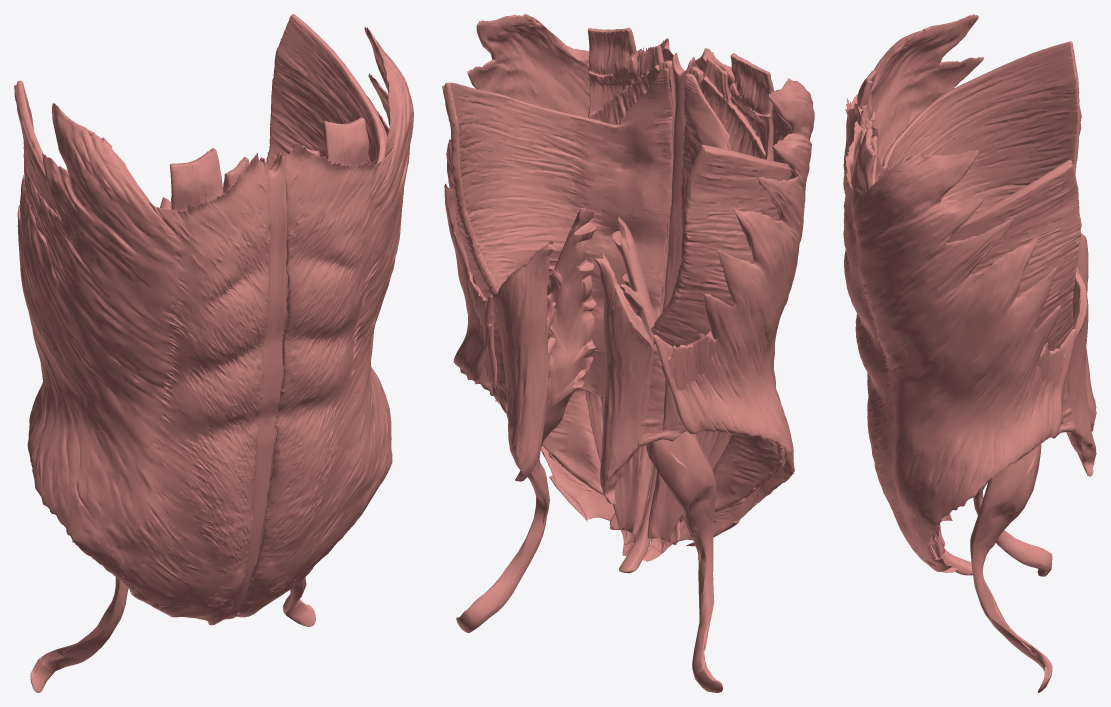
The model's file is muscles-abdomen.hi.glb.
The picture shows the model from 3 angles, left to right: view 1: azimuth 30°, elevation 25°; view 2: azimuth 150°, elevation 25°; view 3: azimuth 270°, elevation 25°; orthographic projection. The views are drawn at different scales.
Visible parts, largest first — view 1: FJ1452, FJ1452M, ZA-transverse-abdomen-g, FJ1448, ZA-droit-abdomen-d, FJ1431, ZA-transverse-abdomen-d, ZA-droit-abdomen-g, FJ1431M; view 2: ZA-transverse-abdomen-g, FJ1452, ZA-transverse-abdomen-d, FJ1452M, FJ1431M, ZA-carre-lombes-g, ZA-droit-abdomen-g, FJ1431, ZA-carre-lombes-d, ZA-droit-abdomen-d, FJ1448, ZA-oblique-interne-d (+1 smaller); view 3: FJ1452M, ZA-transverse-abdomen-d, ZA-transverse-abdomen-g, FJ1452, FJ1431M, ZA-carre-lombes-g, FJ1431, ZA-droit-abdomen-g, ZA-oblique-interne-g, ZA-carre-lombes-d, ZA-droit-abdomen-d, FJ1448.
Boxes of the visible parts, x1=… form: FJ1452: x1=17, y1=103, x2=270, y2=625; FJ1452M: x1=236, y1=27, x2=413, y2=617; ZA-transverse-abdomen-g: x1=238, y1=14, x2=387, y2=612; FJ1448: x1=225, y1=152, x2=287, y2=619; ZA-droit-abdomen-d: x1=169, y1=148, x2=249, y2=211; FJ1431: x1=30, y1=197, x2=171, y2=692; ZA-transverse-abdomen-d: x1=14, y1=80, x2=209, y2=624; ZA-droit-abdomen-g: x1=284, y1=117, x2=369, y2=165; FJ1431M: x1=283, y1=577, x2=315, y2=626; ZA-transverse-abdomen-g: x1=442, y1=68, x2=672, y2=544; FJ1452: x1=642, y1=48, x2=814, y2=561; ZA-transverse-abdomen-d: x1=638, y1=73, x2=791, y2=553; FJ1452M: x1=444, y1=14, x2=673, y2=555; FJ1431M: x1=456, y1=208, x2=596, y2=633; ZA-carre-lombes-g: x1=493, y1=240, x2=556, y2=481; ZA-droit-abdomen-g: x1=585, y1=27, x2=675, y2=536; FJ1431: x1=612, y1=216, x2=722, y2=692; ZA-carre-lombes-d: x1=594, y1=252, x2=654, y2=504; ZA-droit-abdomen-d: x1=647, y1=53, x2=773, y2=541; FJ1448: x1=619, y1=52, x2=695, y2=573; ZA-oblique-interne-d: x1=662, y1=61, x2=788, y2=522; FJ1452M: x1=843, y1=121, x2=1075, y2=572; ZA-transverse-abdomen-d: x1=872, y1=41, x2=1081, y2=214; ZA-transverse-abdomen-g: x1=871, y1=136, x2=1081, y2=549; FJ1452: x1=843, y1=14, x2=983, y2=520; FJ1431M: x1=970, y1=443, x2=1052, y2=692; ZA-carre-lombes-g: x1=1066, y1=266, x2=1096, y2=476; FJ1431: x1=973, y1=481, x2=1052, y2=576; ZA-droit-abdomen-g: x1=853, y1=128, x2=944, y2=558; ZA-oblique-interne-g: x1=851, y1=148, x2=1065, y2=545; ZA-carre-lombes-d: x1=1077, y1=233, x2=1096, y2=431; ZA-droit-abdomen-d: x1=857, y1=70, x2=944, y2=546; FJ1448: x1=859, y1=116, x2=972, y2=575.
Size of the model in its own units: 0.2816 by 0.4764 by 0.1979.
